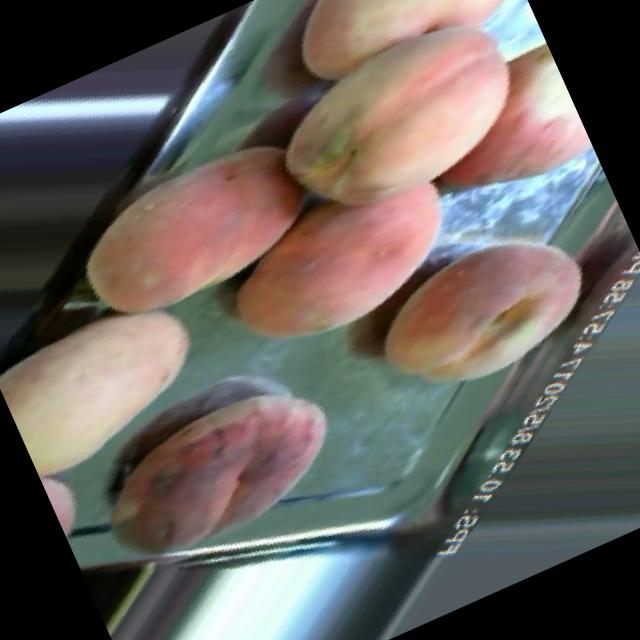Fruit: (18, 80, 360, 383), (34, 329, 384, 624), (184, 124, 502, 390), (334, 184, 632, 442), (0, 240, 251, 507), (253, 0, 561, 182)
